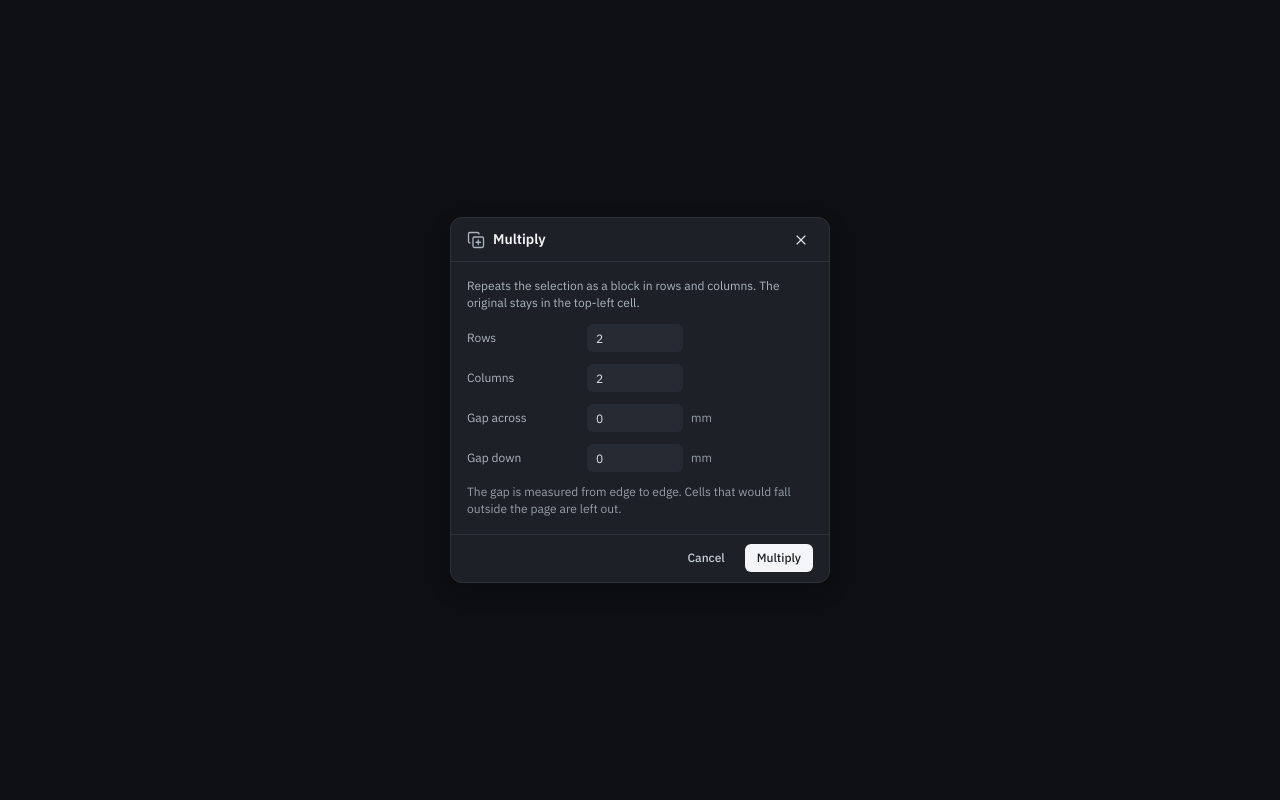
Test: Diálogos Offset y Multiply (ADR-0107) › Multiply con una sola celda no se puede aplicar
The image size is (1280, 800).
Replace the text in the number field with test id "multiply-rows" with "1" at (635, 338), box 587,324 -> 683,352
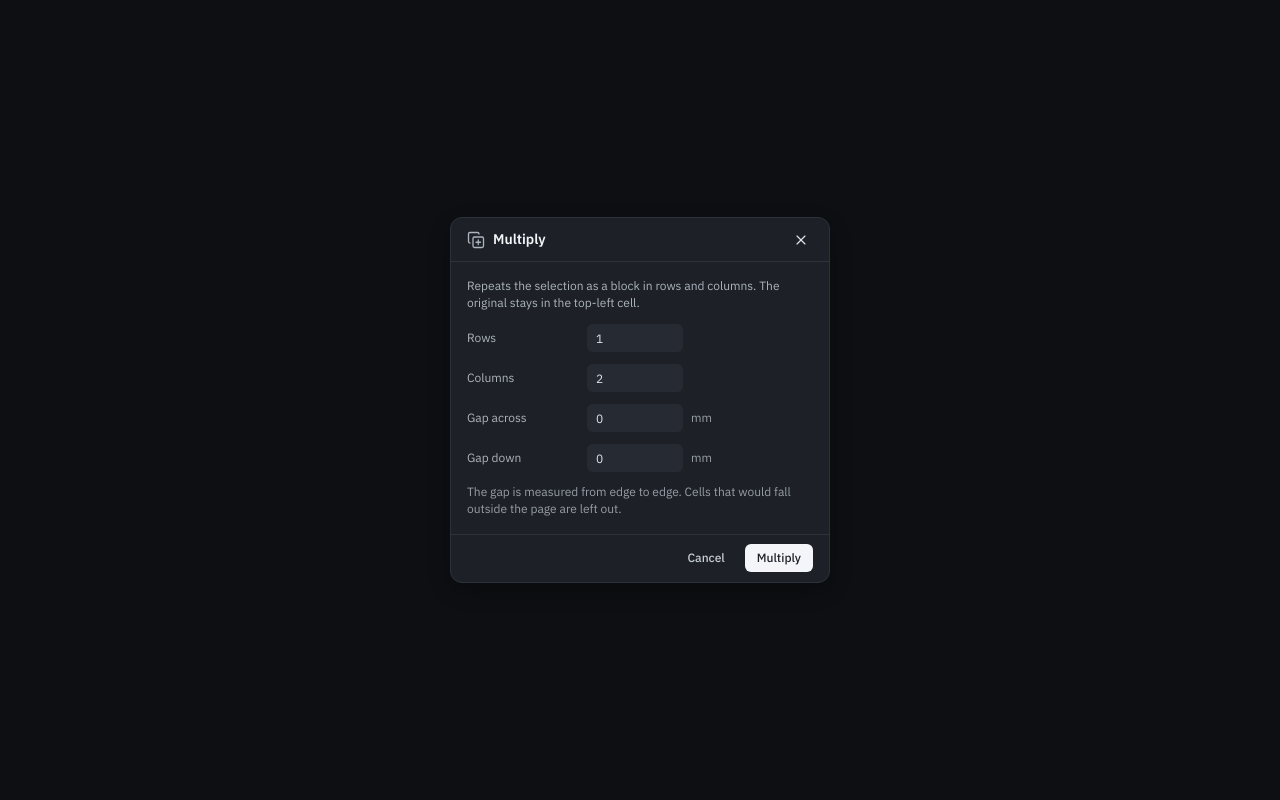
Replace the text in the number field with test id "multiply-columns" with "1" at (635, 378), box 587,364 -> 683,392
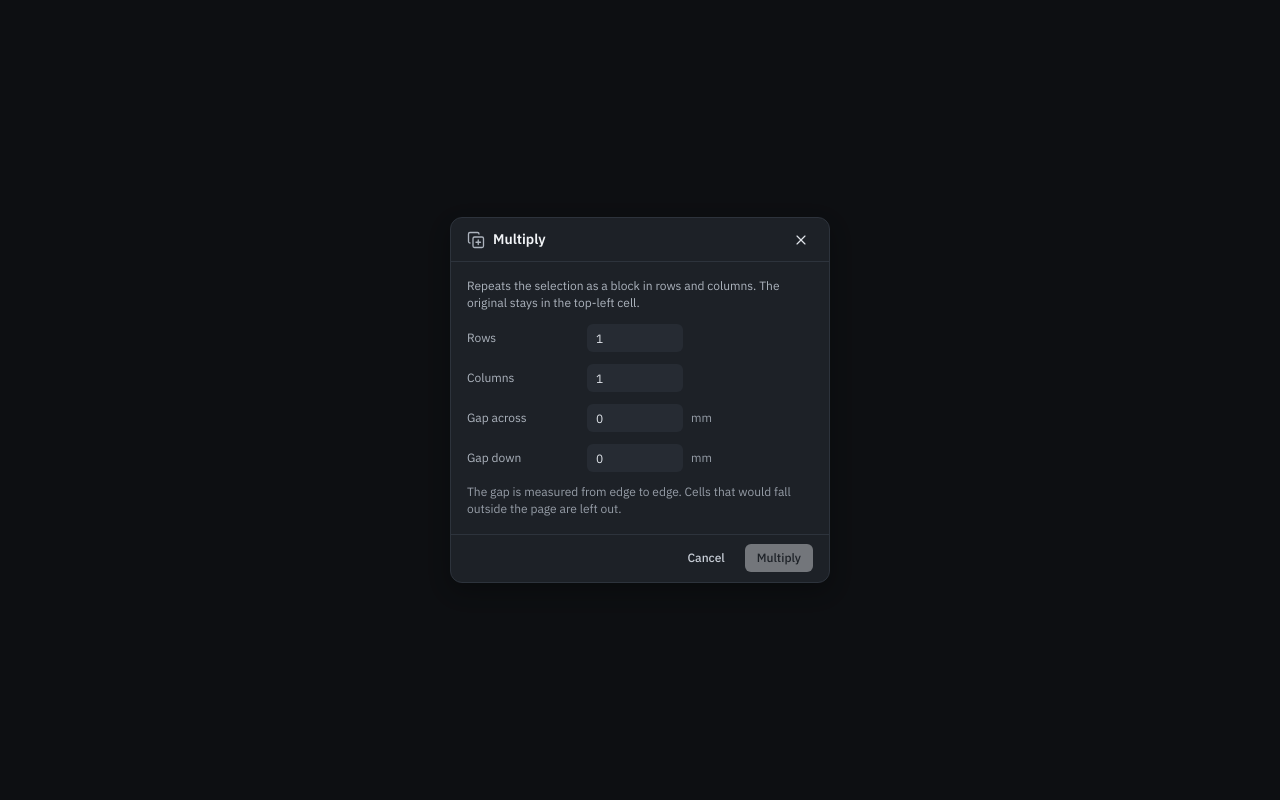
expect the button with test id "copytools-apply" is disabled: met, box 745,544 -> 813,572
